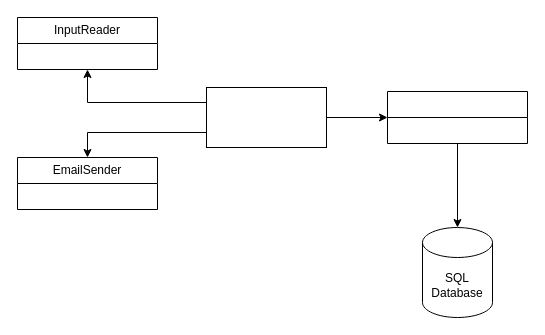
This 545x335 diagram has some shape labels left out. Each missing label, with the centre of its shape:
"Database" goes at pixel 457 117.
"Main" goes at pixel 266 117.
